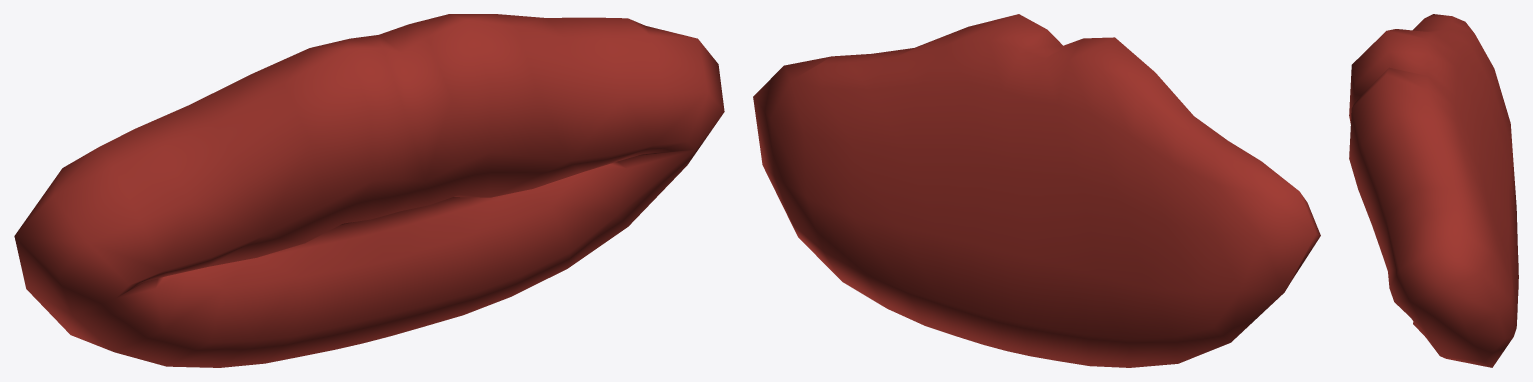
The picture shows the model from 3 angles, left to right: view 1: azimuth 30°, elevation 25°; view 2: azimuth 150°, elevation 25°; view 3: azimuth 270°, elevation 25°; orthographic projection. The views are drawn at different scales.
Parts seen in each view (by area): view 1: lipstick_lips; view 2: lipstick_lips; view 3: lipstick_lips.
Part boxes in pixels (x1,y1,x2,y2): lipstick_lips: [14, 14, 724, 367]; lipstick_lips: [753, 14, 1320, 367]; lipstick_lips: [1349, 14, 1518, 367].
Bounding box in the file's own units: 0.375 × 0.1788 × 0.1048.
